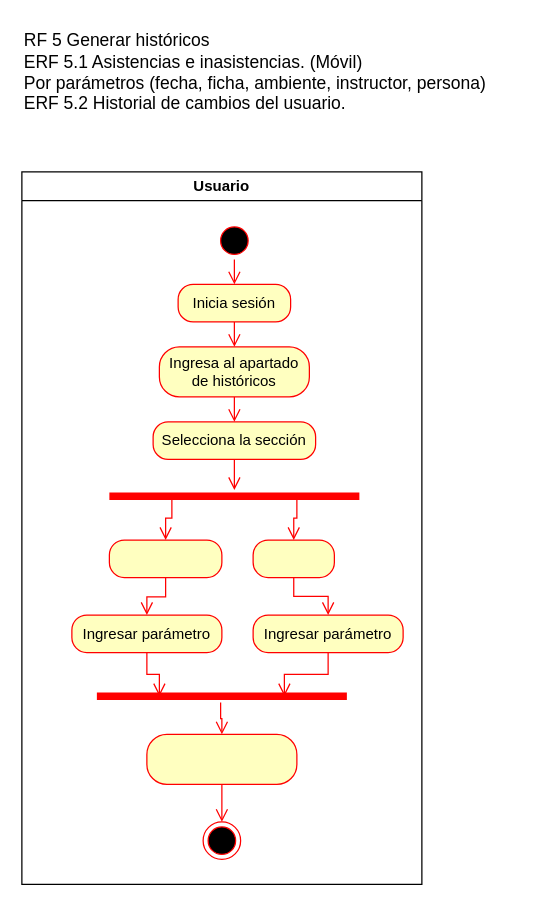
Image size: 544x906. Some labels were removed from this diagram. Each missing label, with the box of its shape:
Asistencias: (108, 539, 222, 578)
Cambios: (252, 539, 334, 578)
Confirmar registro: (146, 733, 297, 784)
